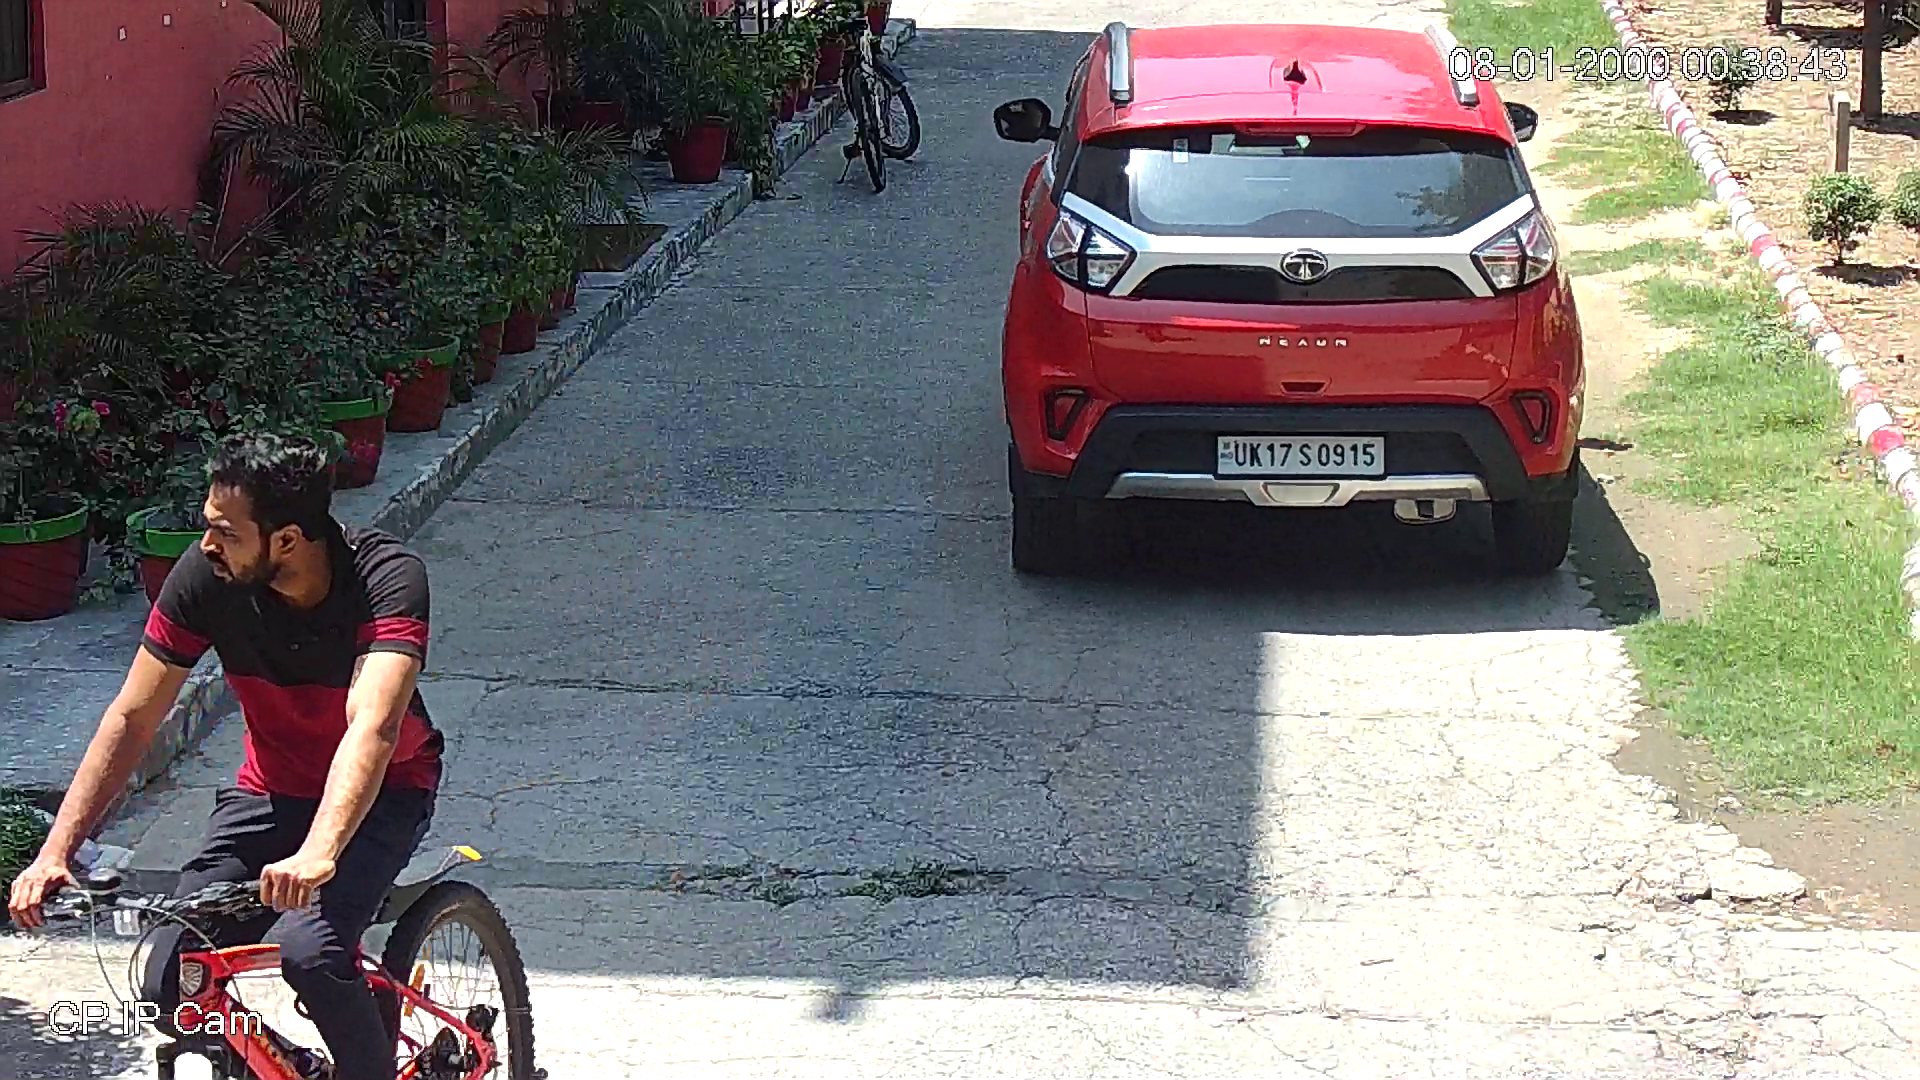plate: (1219, 436, 1382, 475)
